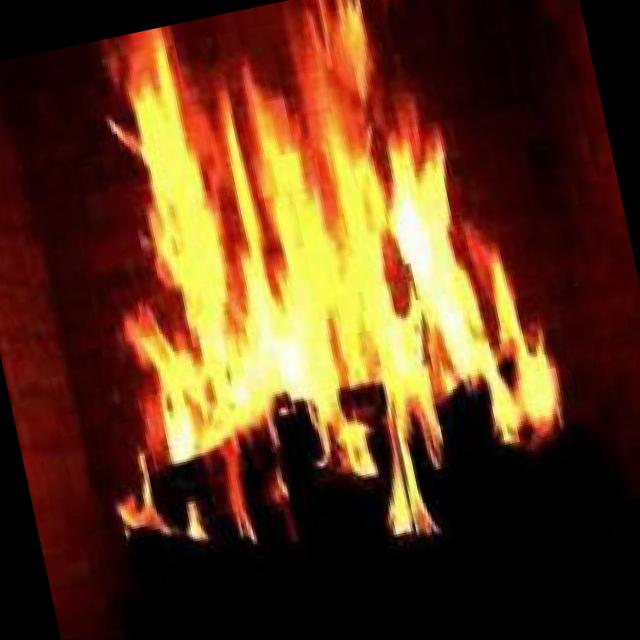Fire: (19, 0, 582, 601)
